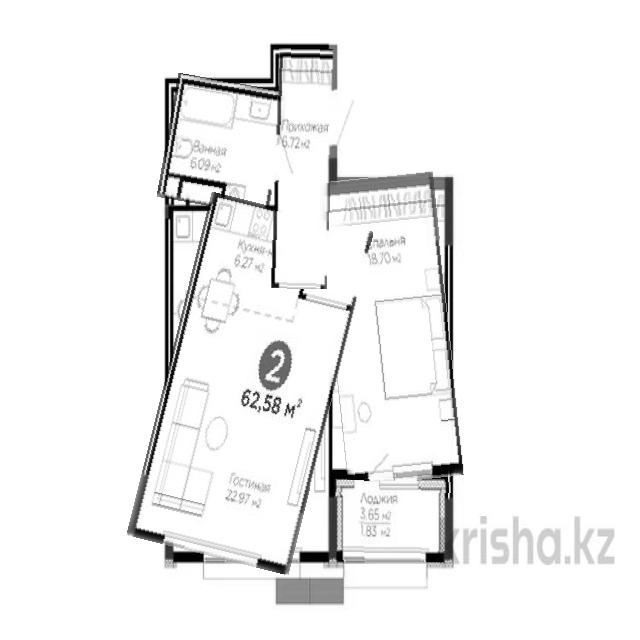balcony: (334, 481, 451, 562)
bathroom: (161, 78, 284, 212)
hallway: (273, 48, 333, 289)
living_room: (324, 174, 457, 484)
studio: (128, 194, 352, 575)
